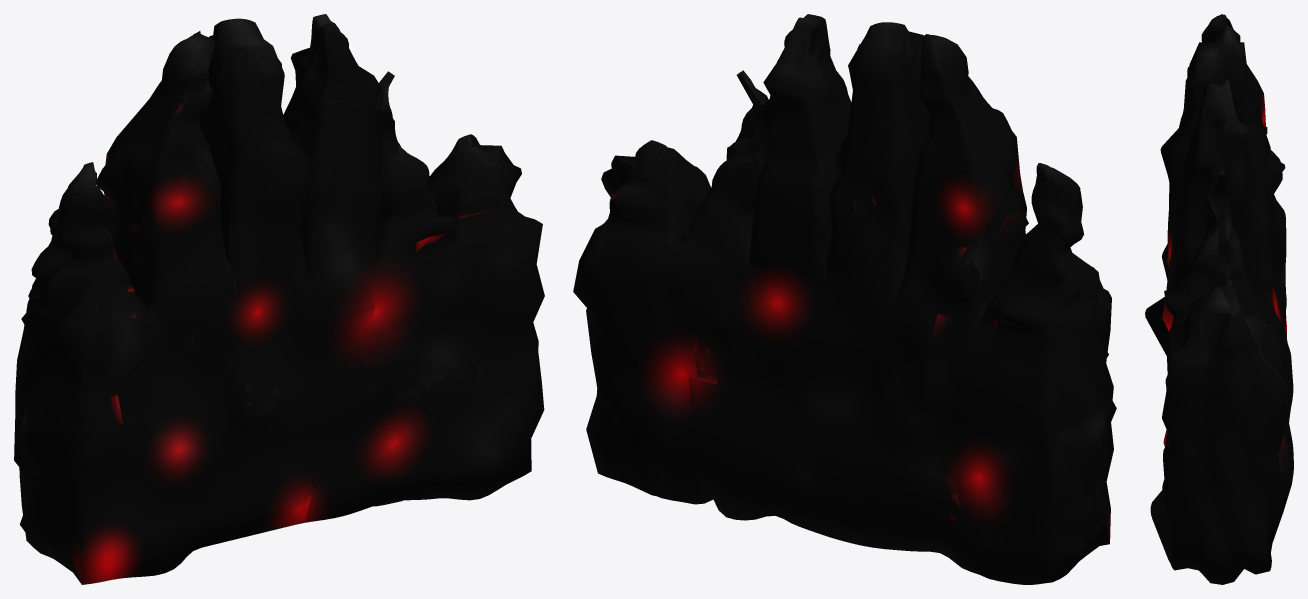
File: Wall.fbx
The picture shows the model from 3 angles, left to right: view 1: azimuth 30°, elevation 25°; view 2: azimuth 150°, elevation 25°; view 3: azimuth 270°, elevation 25°; orthographic projection. The views are drawn at different scales.
Visible parts, largest first — view 1: Cube; view 2: Cube; view 3: Cube.
Part boxes in pixels (x1,y1,x2,y2): Cube: (14,14,544,584); Cube: (573,14,1116,584); Cube: (1145,14,1293,584).
Size of the model in its own units: 1129 by 1089 by 331.
Materials: 1 (1 with a texture image).
